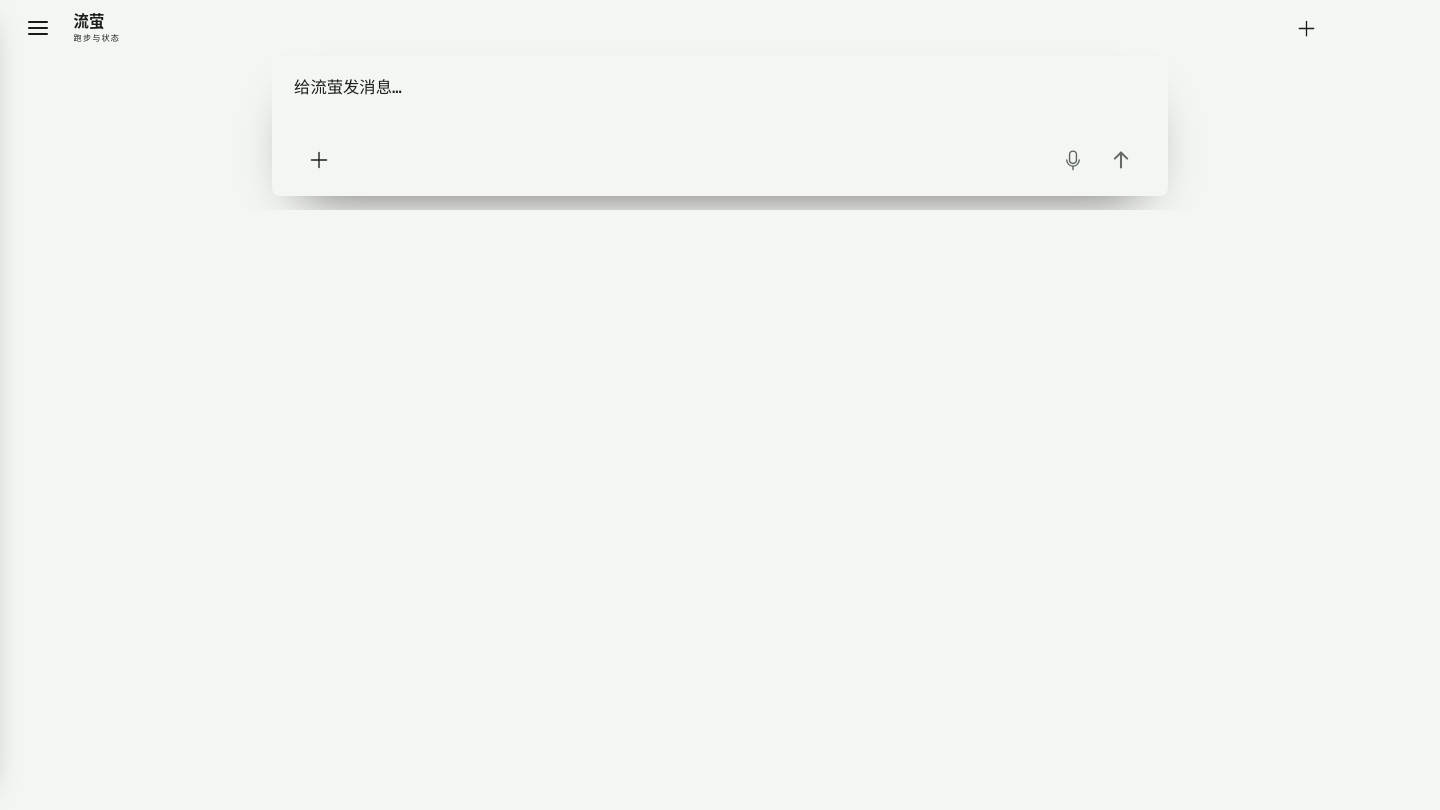
Scenario: Enter 与发送按钮走同一条在线发送路径，组合输入不误发
This screenshot has width=1440, height=810.
Later steps or results of the test are not shown.
Type "今晚怎么跑" into the text box named "给流萤的消息" at (720, 103), box [290,72,1150,134]
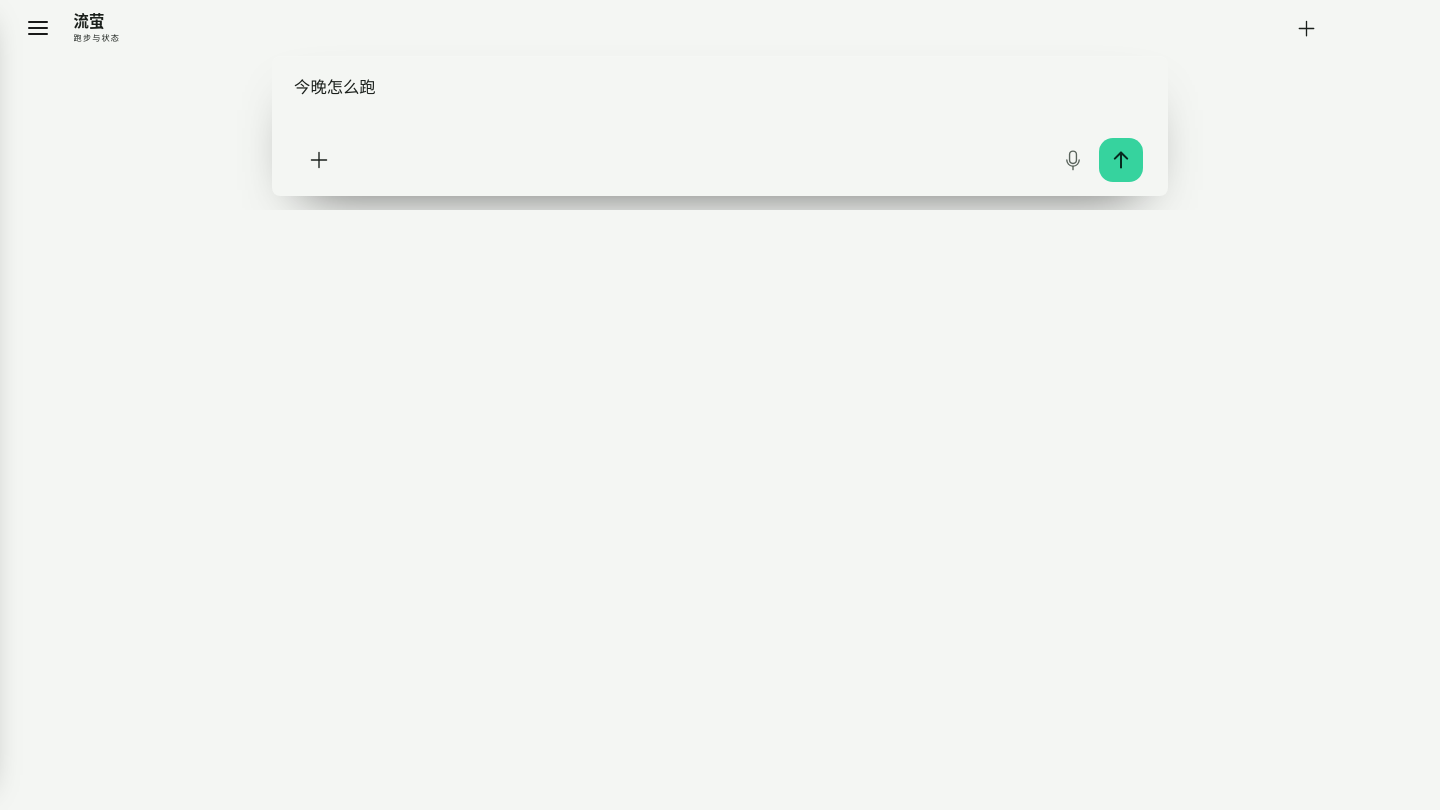
Expected: the button named "在线执行" is enabled, [1099,138,1143,182]
Press Enter in the text box named "给流萤的消息", box [290,72,1150,134]
Press Enter in the text box named "给流萤的消息", box [290,72,1150,134]
Press Enter in the text box named "给流萤的消息", box [290,72,1150,134]
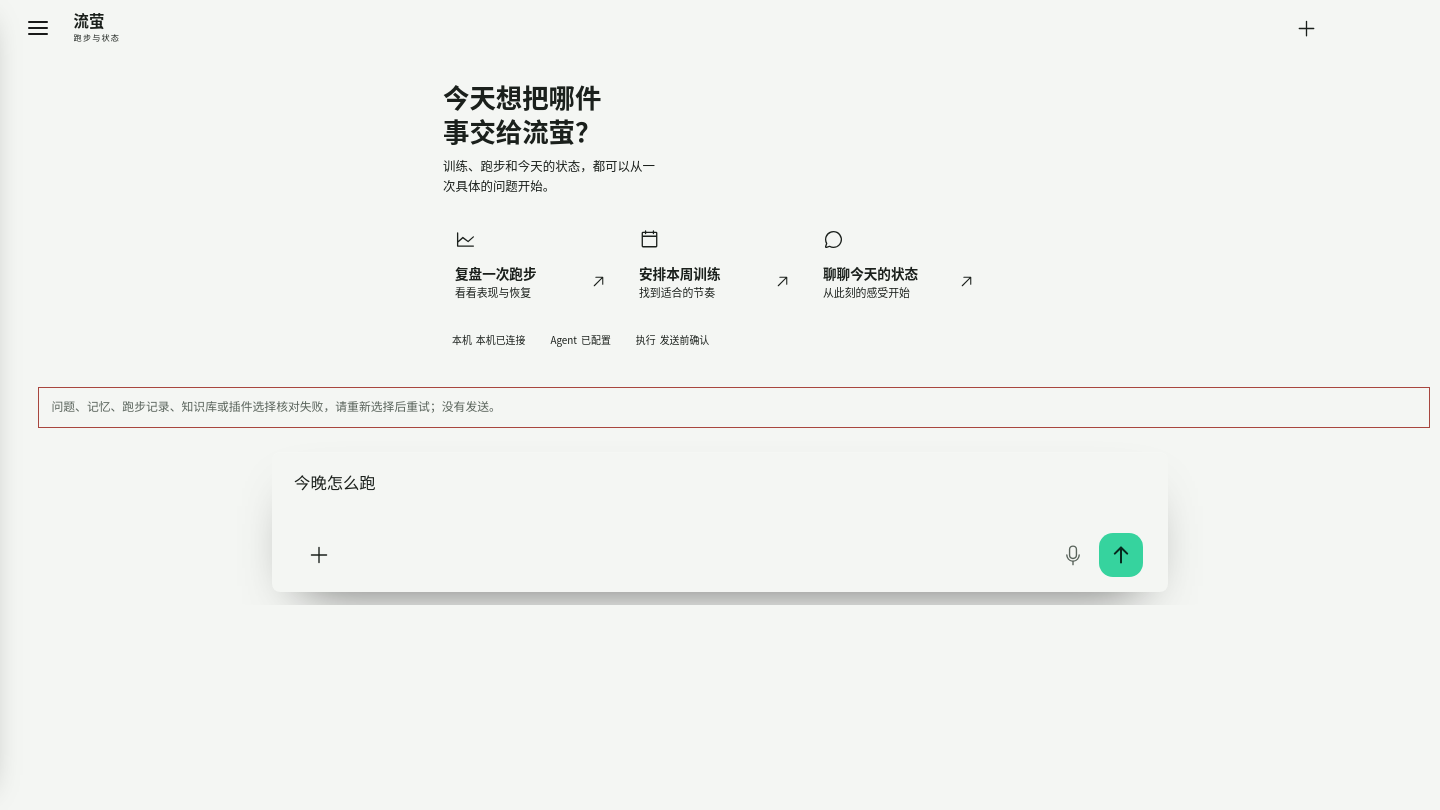
Expected: the button named "在线执行" is enabled, [1099,533,1143,577]
